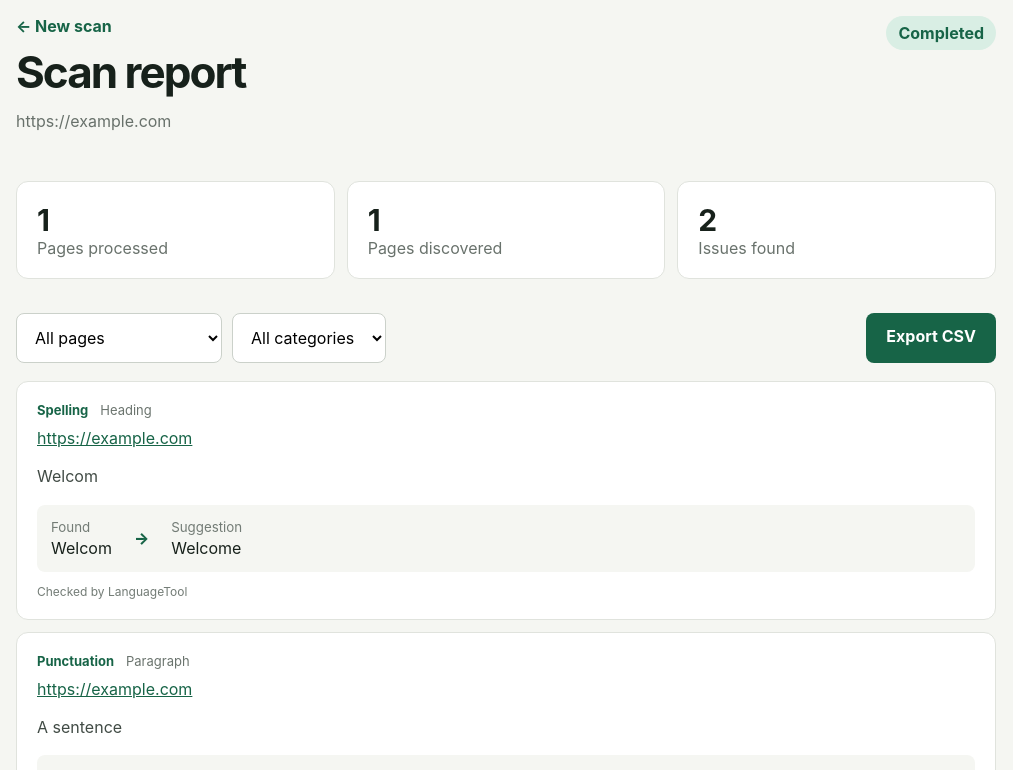
it: ScanPage › loads a completed report and filters its issues
The image size is (1013, 770).
Expected: the text "Welcom" is shown, [37, 466, 98, 486]
Select "Punctuation" in the dropdown named "Filter by category": point(309, 338) [232, 313, 386, 363]
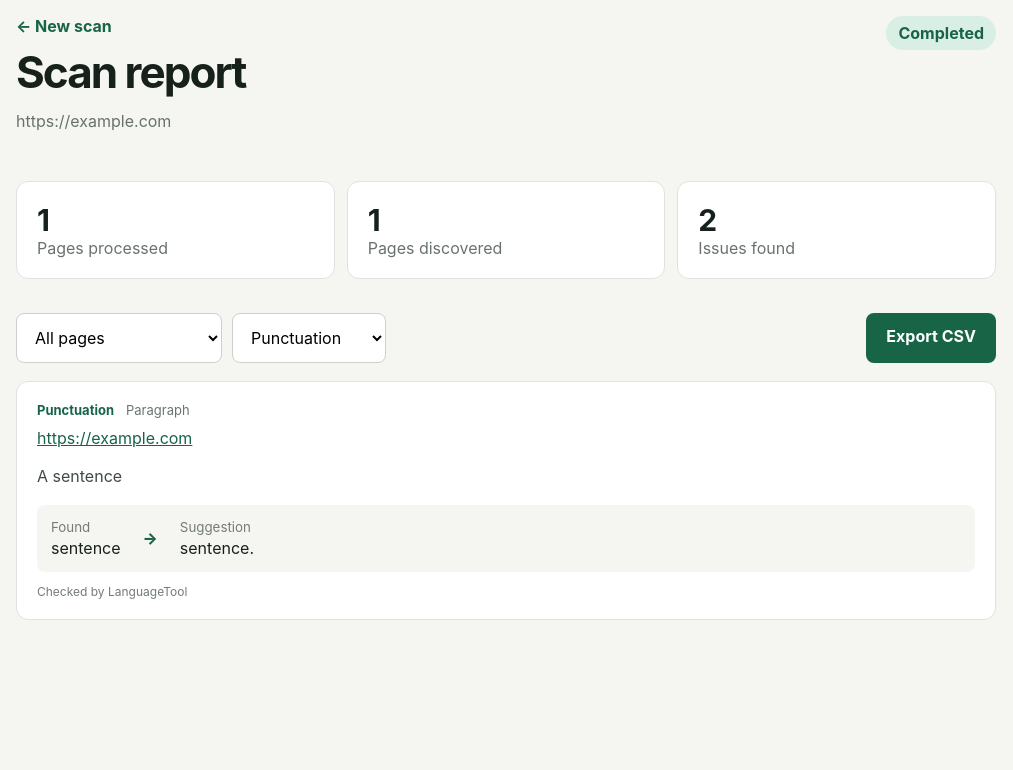
Expected: the text "A sentence" is shown, [37, 466, 122, 486]
Result: the text "Welcom" is gone
